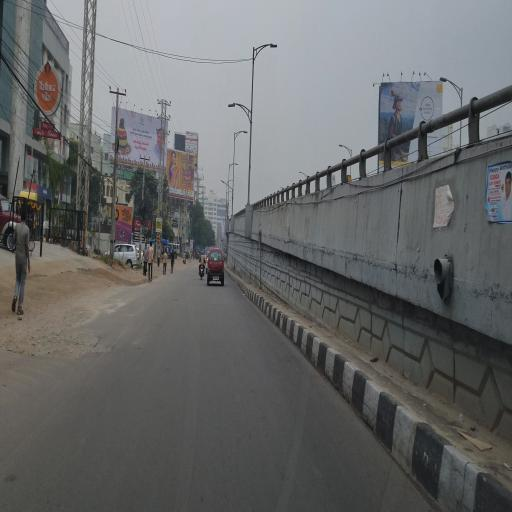street_light_0: (438, 60, 460, 100), (252, 36, 280, 63), (224, 93, 252, 119), (330, 131, 354, 157), (228, 116, 247, 143), (216, 175, 234, 197), (226, 154, 244, 170)
